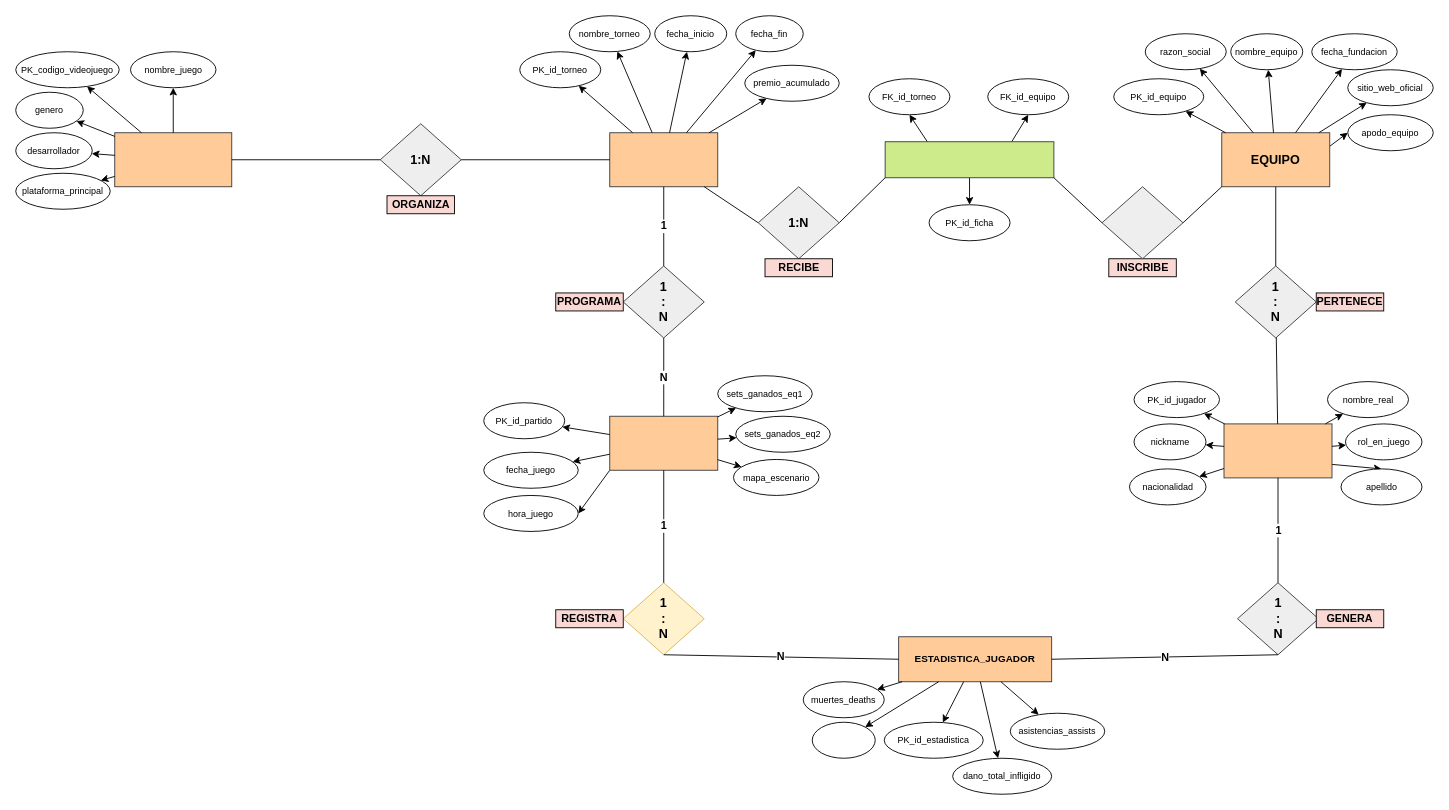
Image size: 1449x810. Some labels were removed from this diagram. Each missing label, with the centre of its shape:
bajas_kills: (x=843, y=739)
FICHA_TORNEO_EQUIPO: (x=969, y=159)
JUGADOR: (x=1277, y=450)
N:1: (x=1142, y=222)
PARTIDO: (x=663, y=442)
TORNEO: (x=663, y=159)
VIDEOJUEGO: (x=173, y=159)
